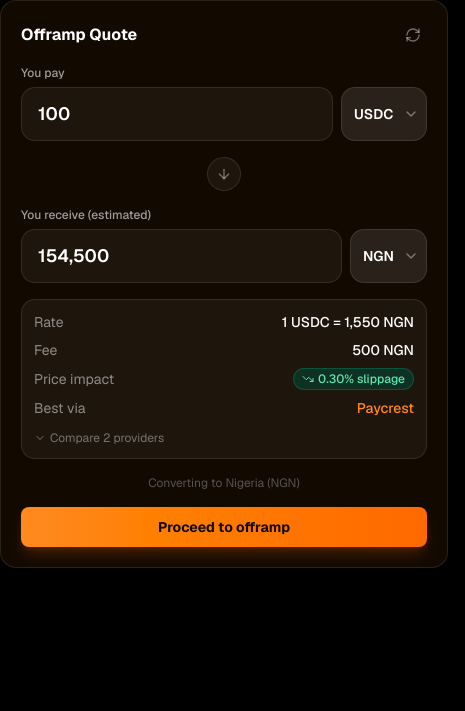
Test case: OfframpSwapWidget — accessibility › compare providers button has aria-expanded
Click the button "Compare 2 providers": (75,438) [34,430,414,446]
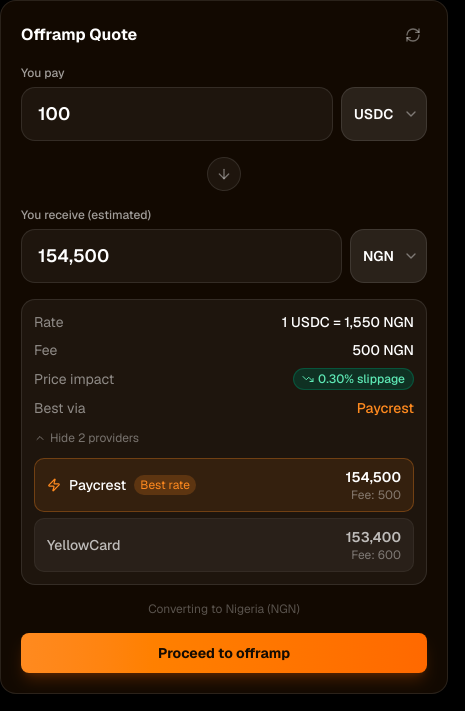
Check: the button named "compare" is expanded, box [34,430,414,446]
